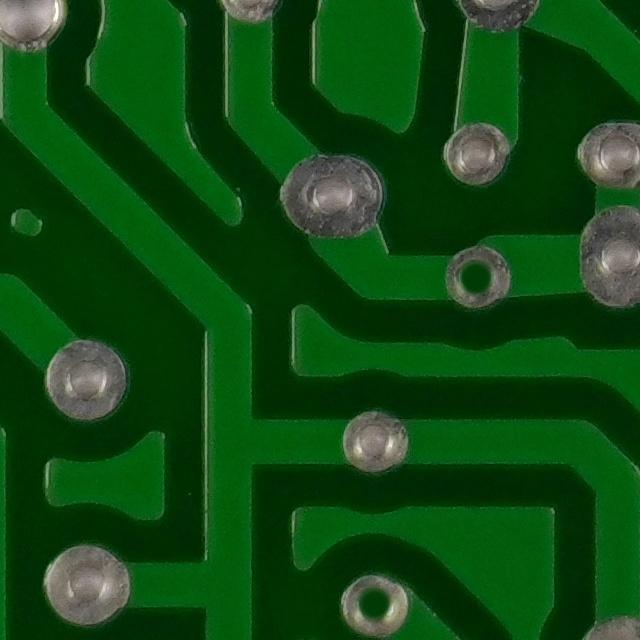missing_hole: (441, 246, 512, 314), (340, 572, 408, 639)
